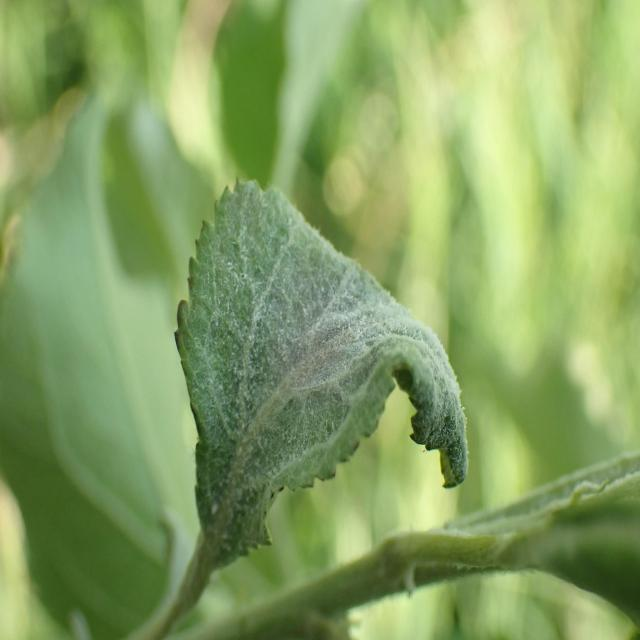Powdery_mildew: (181, 166, 481, 572)
